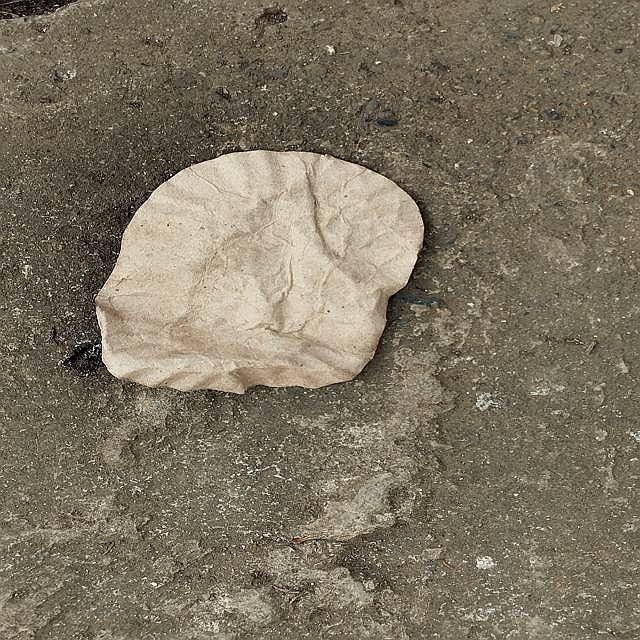Biodegradable: (95, 155, 433, 389)
